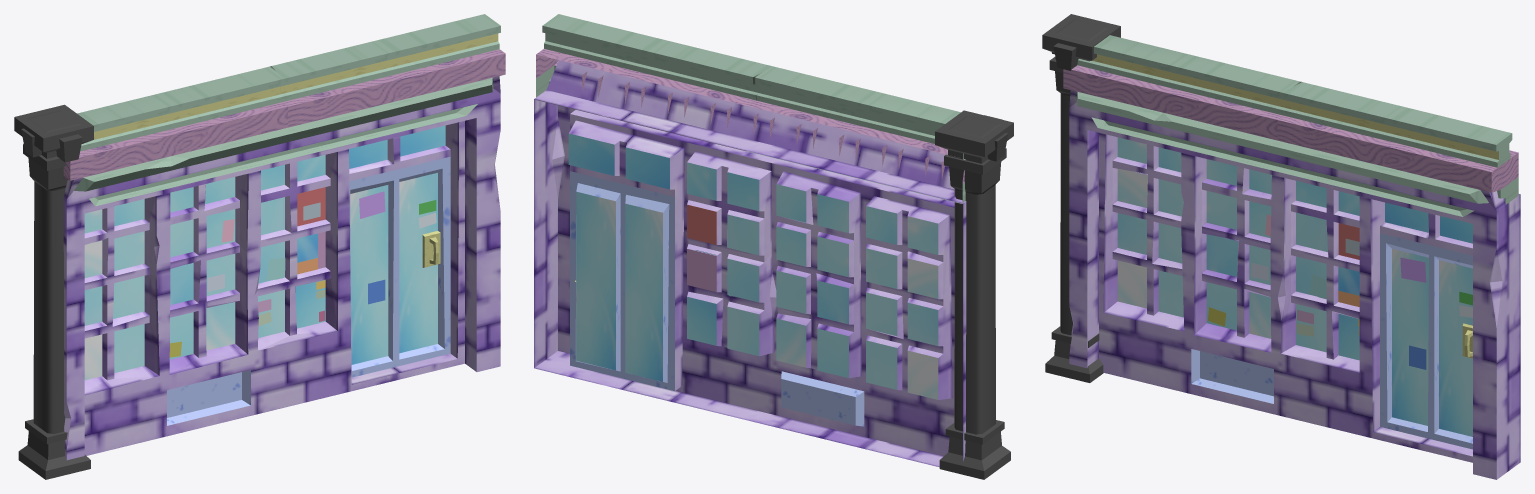
File: House_Front_04_1Pillars.fbx
The picture shows the model from 3 angles, left to right: view 1: azimuth 30°, elevation 25°; view 2: azimuth 150°, elevation 25°; view 3: azimuth 330°, elevation 25°; orthographic projection.
Parts seen in each view (by area): view 1: Ceiling.001; view 2: Ceiling.001; view 3: Ceiling.001.
Part boxes in pixels (x1,y1,x2,y2): Ceiling.001: [14, 14, 505, 479]; Ceiling.001: [534, 14, 1013, 479]; Ceiling.001: [1042, 14, 1520, 479].
Size of the model in its own units: 532 by 377 by 73.05.
